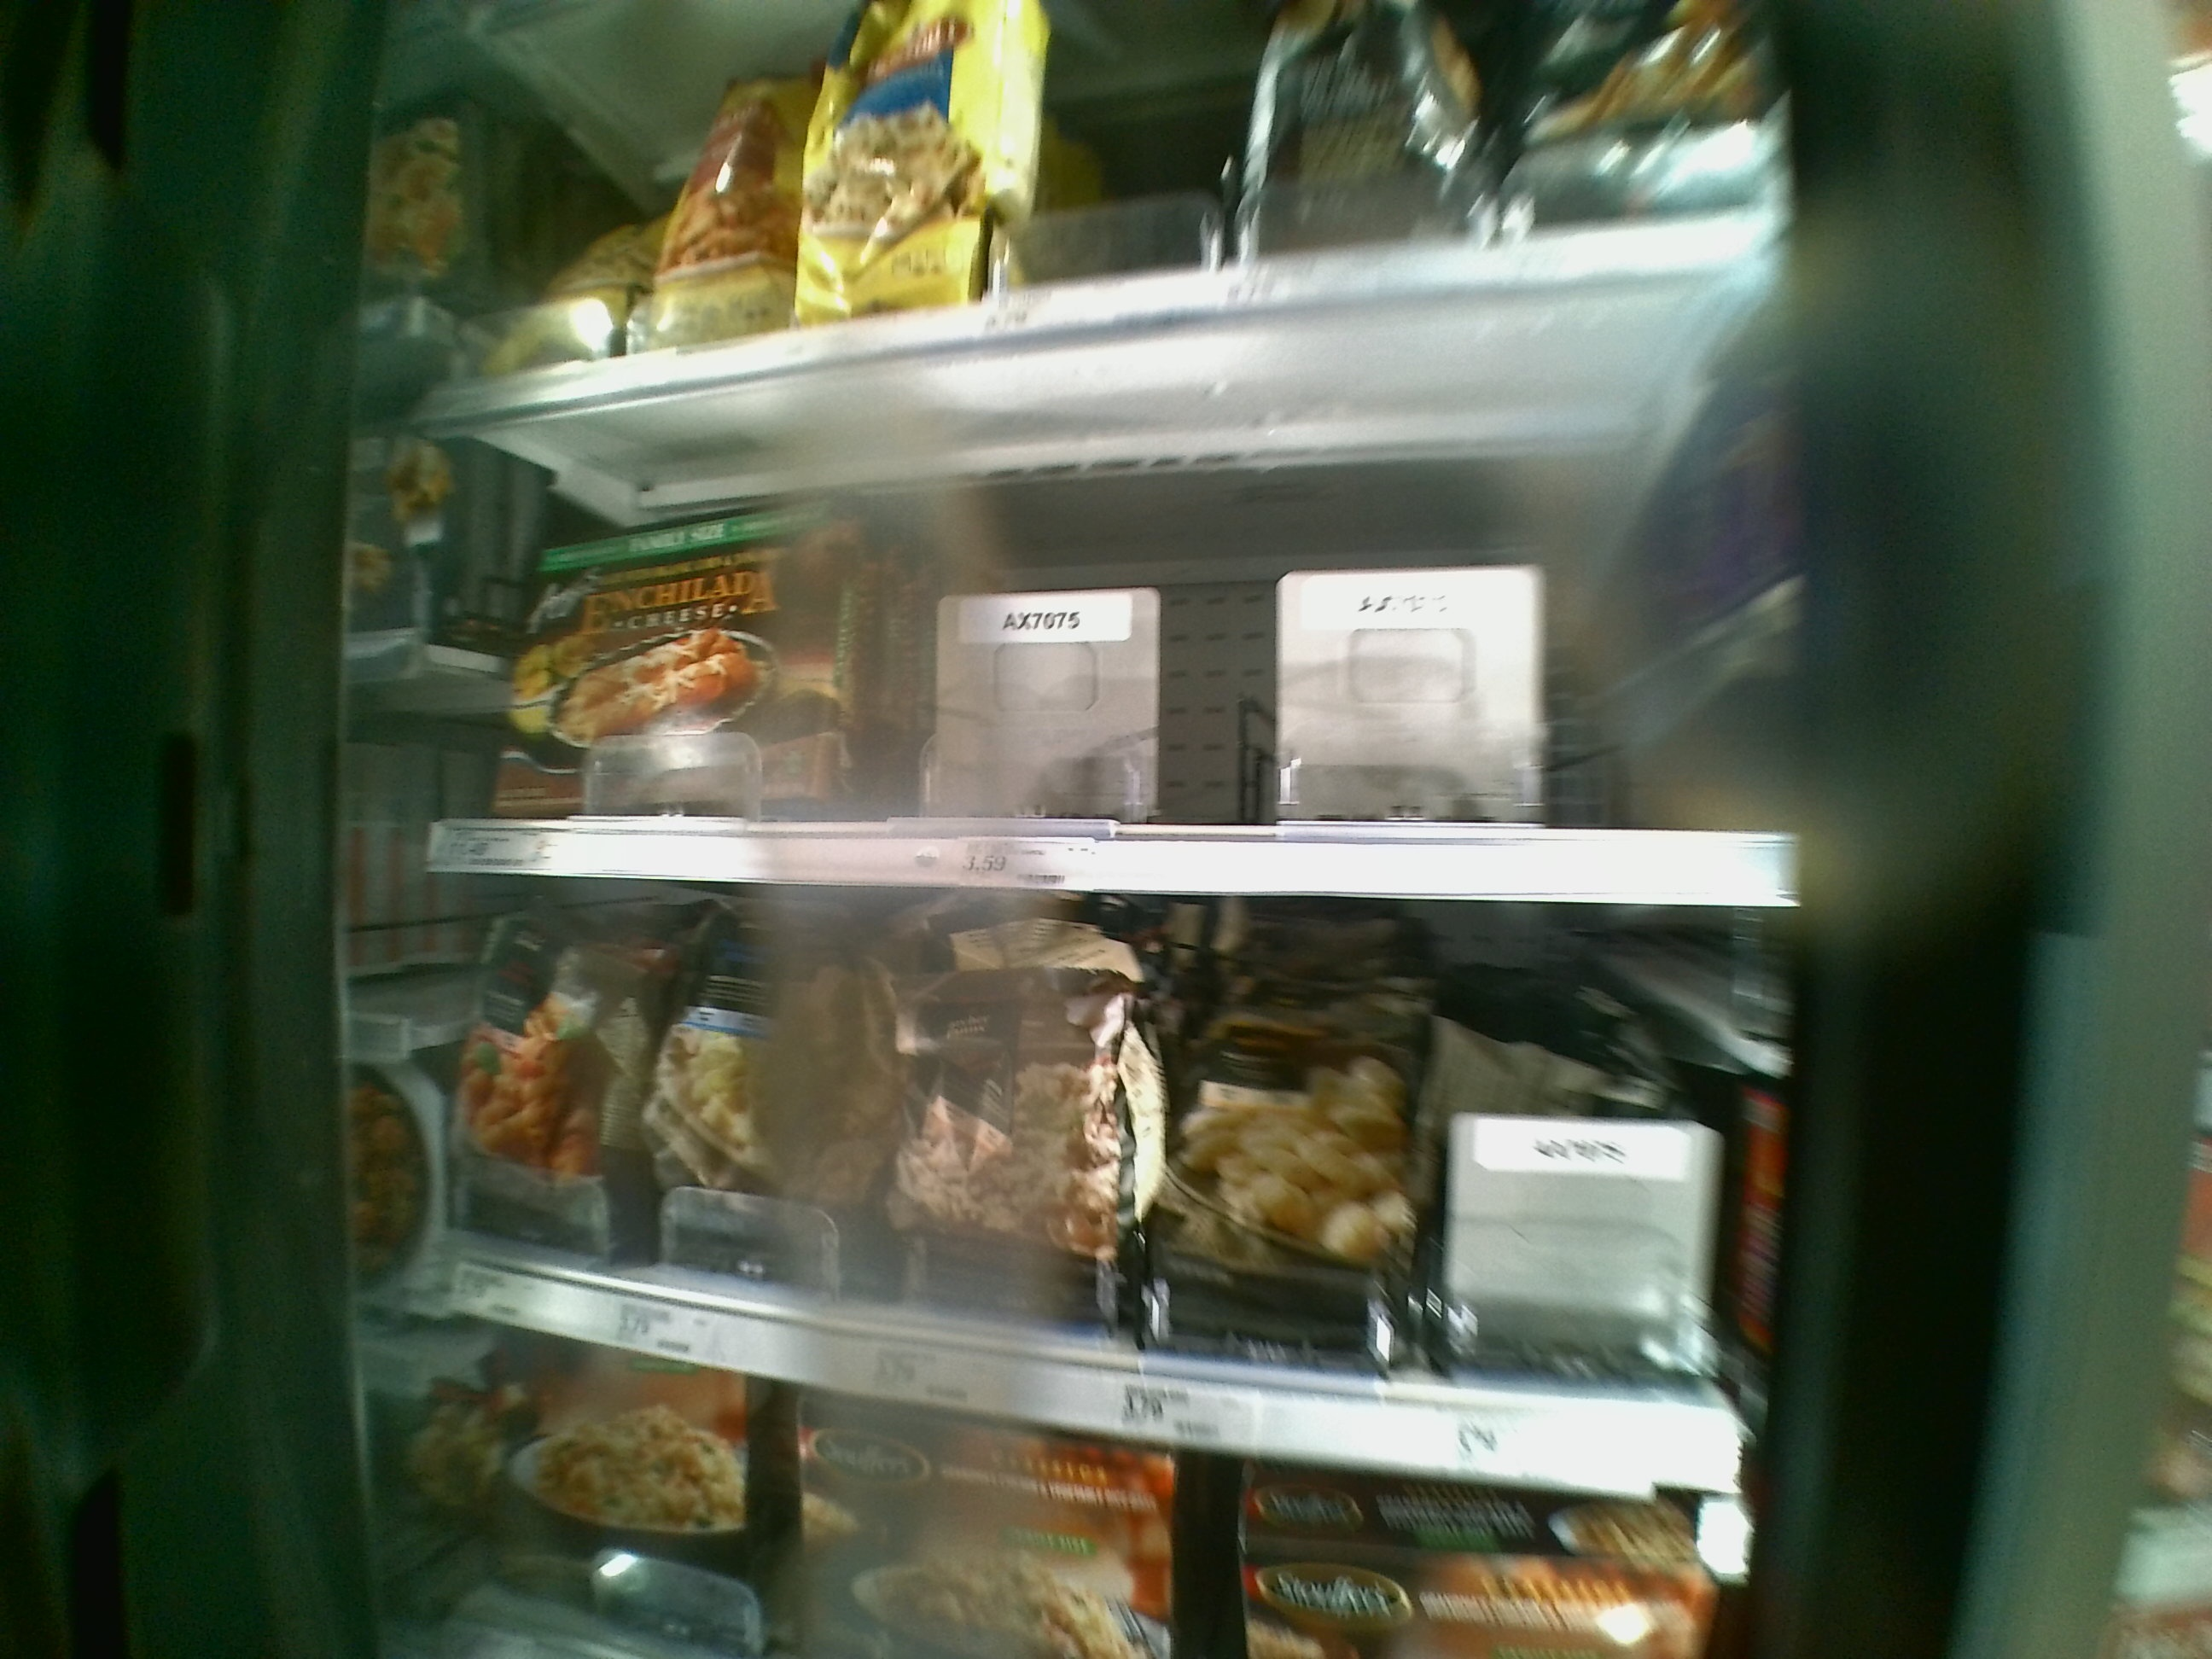shelf: (425, 326, 1773, 882), (430, 892, 1761, 1382)
